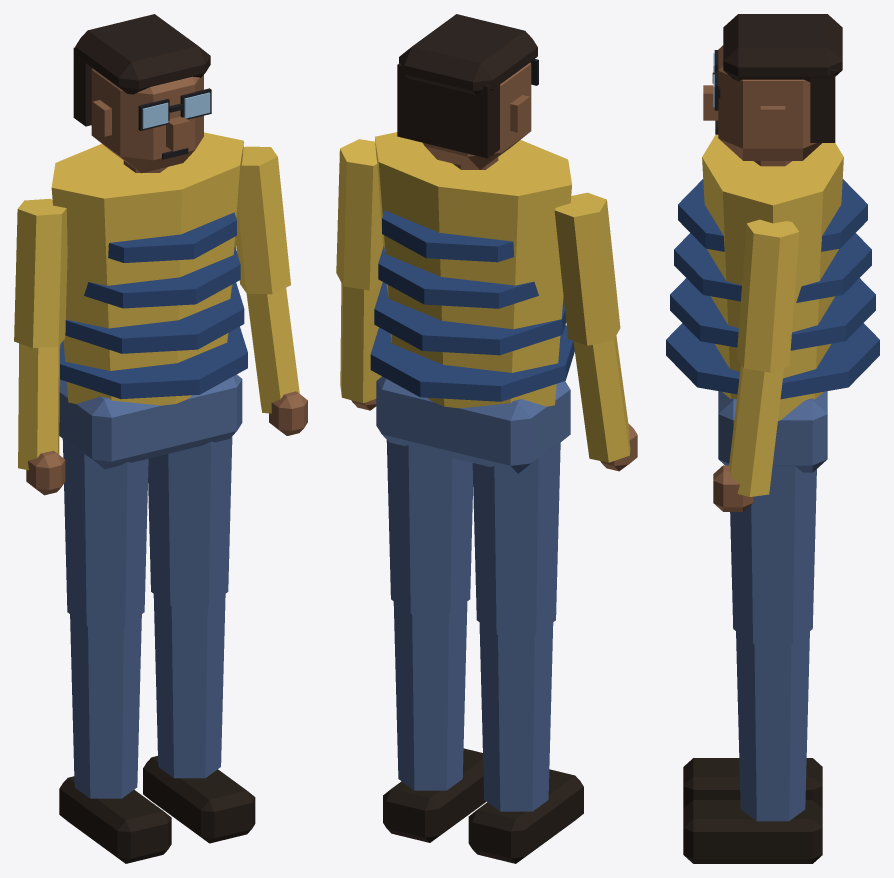
Rendered from person.res-curious.glb.
3 renders of one model, left to right at view 1: azimuth 30°, elevation 25°; view 2: azimuth 150°, elevation 25°; view 3: azimuth 270°, elevation 25°, orthographic. The views are drawn at different scales.
Visible parts, largest first — view 1: torso, thigh-1, thigh1, shin-1, shin1, hips, upper-1, hair, upper1, stripe0, head, shoe-1 (+12 smaller); view 2: torso, thigh-1, thigh1, shin-1, shin1, hips, upper-1, hair, stripe0, hair-back, upper1, shoe-1 (+8 smaller); view 3: torso, thigh1, shin1, upper1, shoe1, hair, head, stripe0, stripe1, fore1, stripe2, hips (+6 smaller).
Part boxes in pixels (x1,y1,x2,y2): torso: (51, 132, 243, 405); thigh-1: (62, 438, 148, 626); thigh1: (148, 436, 232, 605); shin-1: (70, 614, 141, 798); shin1: (153, 594, 225, 778); hips: (59, 374, 242, 469); upper-1: (14, 198, 67, 348); hair: (75, 14, 210, 94); upper1: (236, 146, 290, 294); stripe0: (60, 326, 247, 399); head: (91, 68, 203, 173); shoe-1: (59, 776, 171, 863); torso: (375, 132, 571, 408); thigh-1: (472, 442, 560, 634); thigh1: (386, 440, 473, 613); shin-1: (479, 622, 553, 811); shin1: (393, 601, 467, 790); hips: (376, 376, 570, 473); upper-1: (554, 192, 620, 345); hair: (399, 14, 537, 95); stripe0: (370, 325, 574, 401); hair-back: (397, 63, 499, 158); upper1: (336, 139, 382, 290); shoe-1: (468, 769, 583, 863); torso: (702, 134, 843, 420); thigh1: (730, 466, 816, 643); shin1: (736, 631, 809, 821); upper1: (736, 219, 799, 372); shoe1: (683, 800, 822, 863); hair: (723, 14, 842, 81); head: (718, 45, 821, 160); stripe0: (666, 323, 879, 399); stripe1: (670, 278, 875, 350); fore1: (729, 365, 783, 496); stripe2: (674, 233, 871, 302); hips: (718, 391, 827, 472).
Bounding box in the file's own units: 0.6746 × 1.78 × 0.43.
